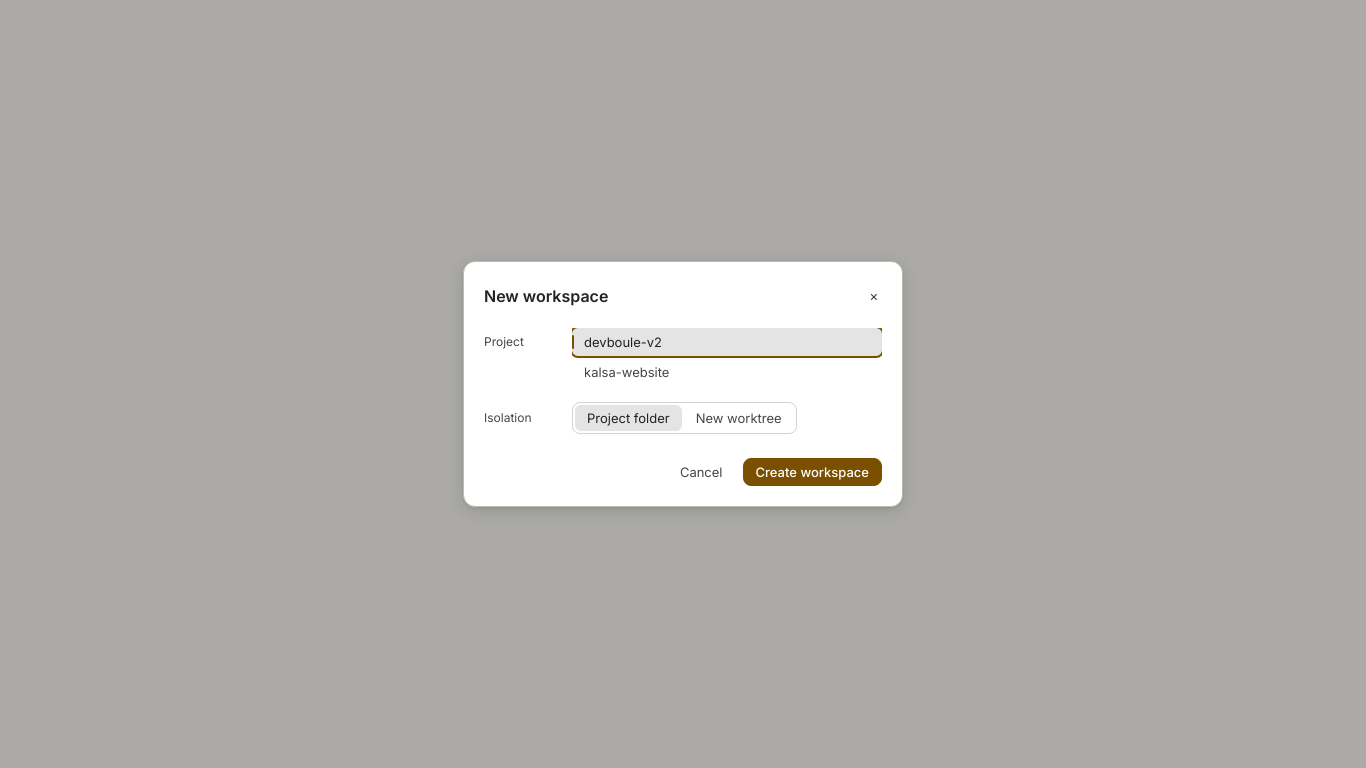
Test: the new-workspace sheet's groups › asks for a starting branch only for a new worktree
This screenshot has width=1366, height=768.
Click the radio button labelled "New worktree" at (739, 418), box x1=684 y1=405 x2=794 y2=431
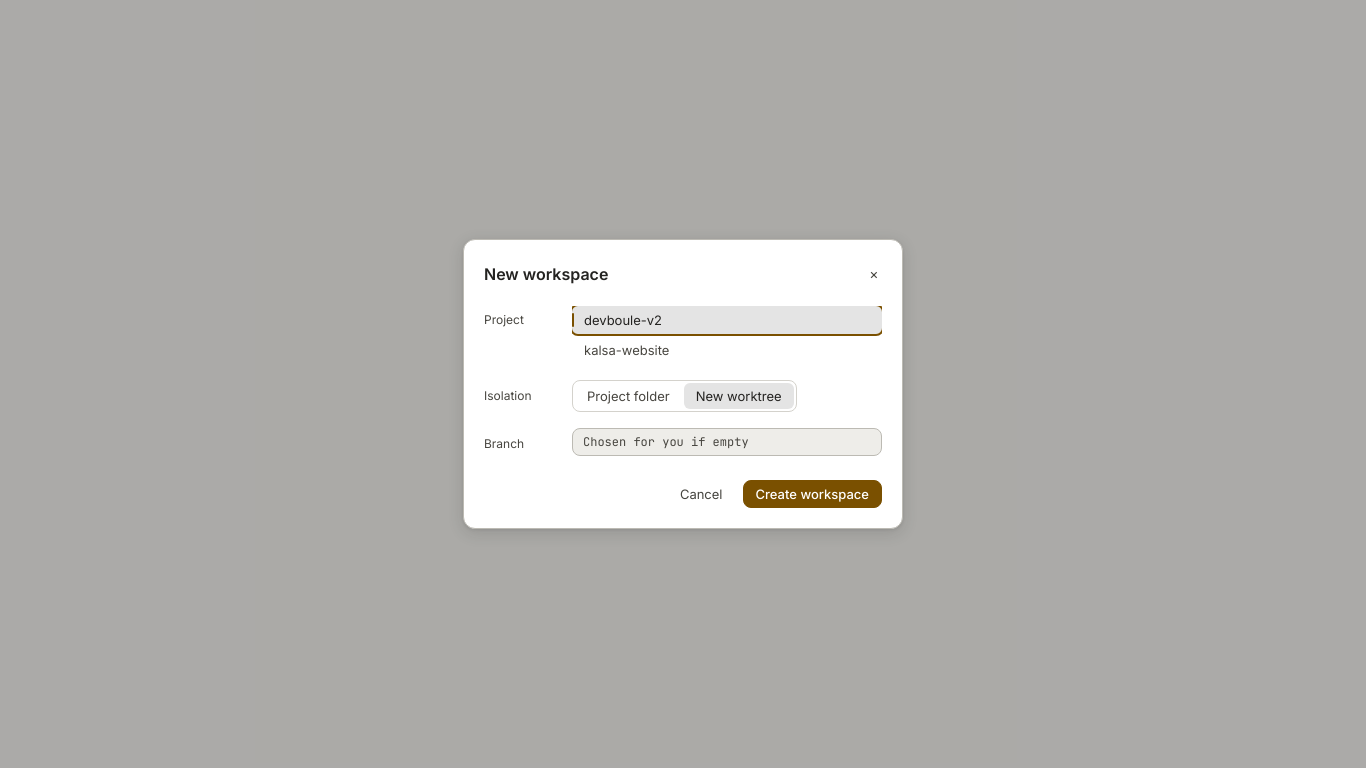
expect the field with id "new-workspace-branch" is shown: met, box x1=572 y1=428 x2=882 y2=456
